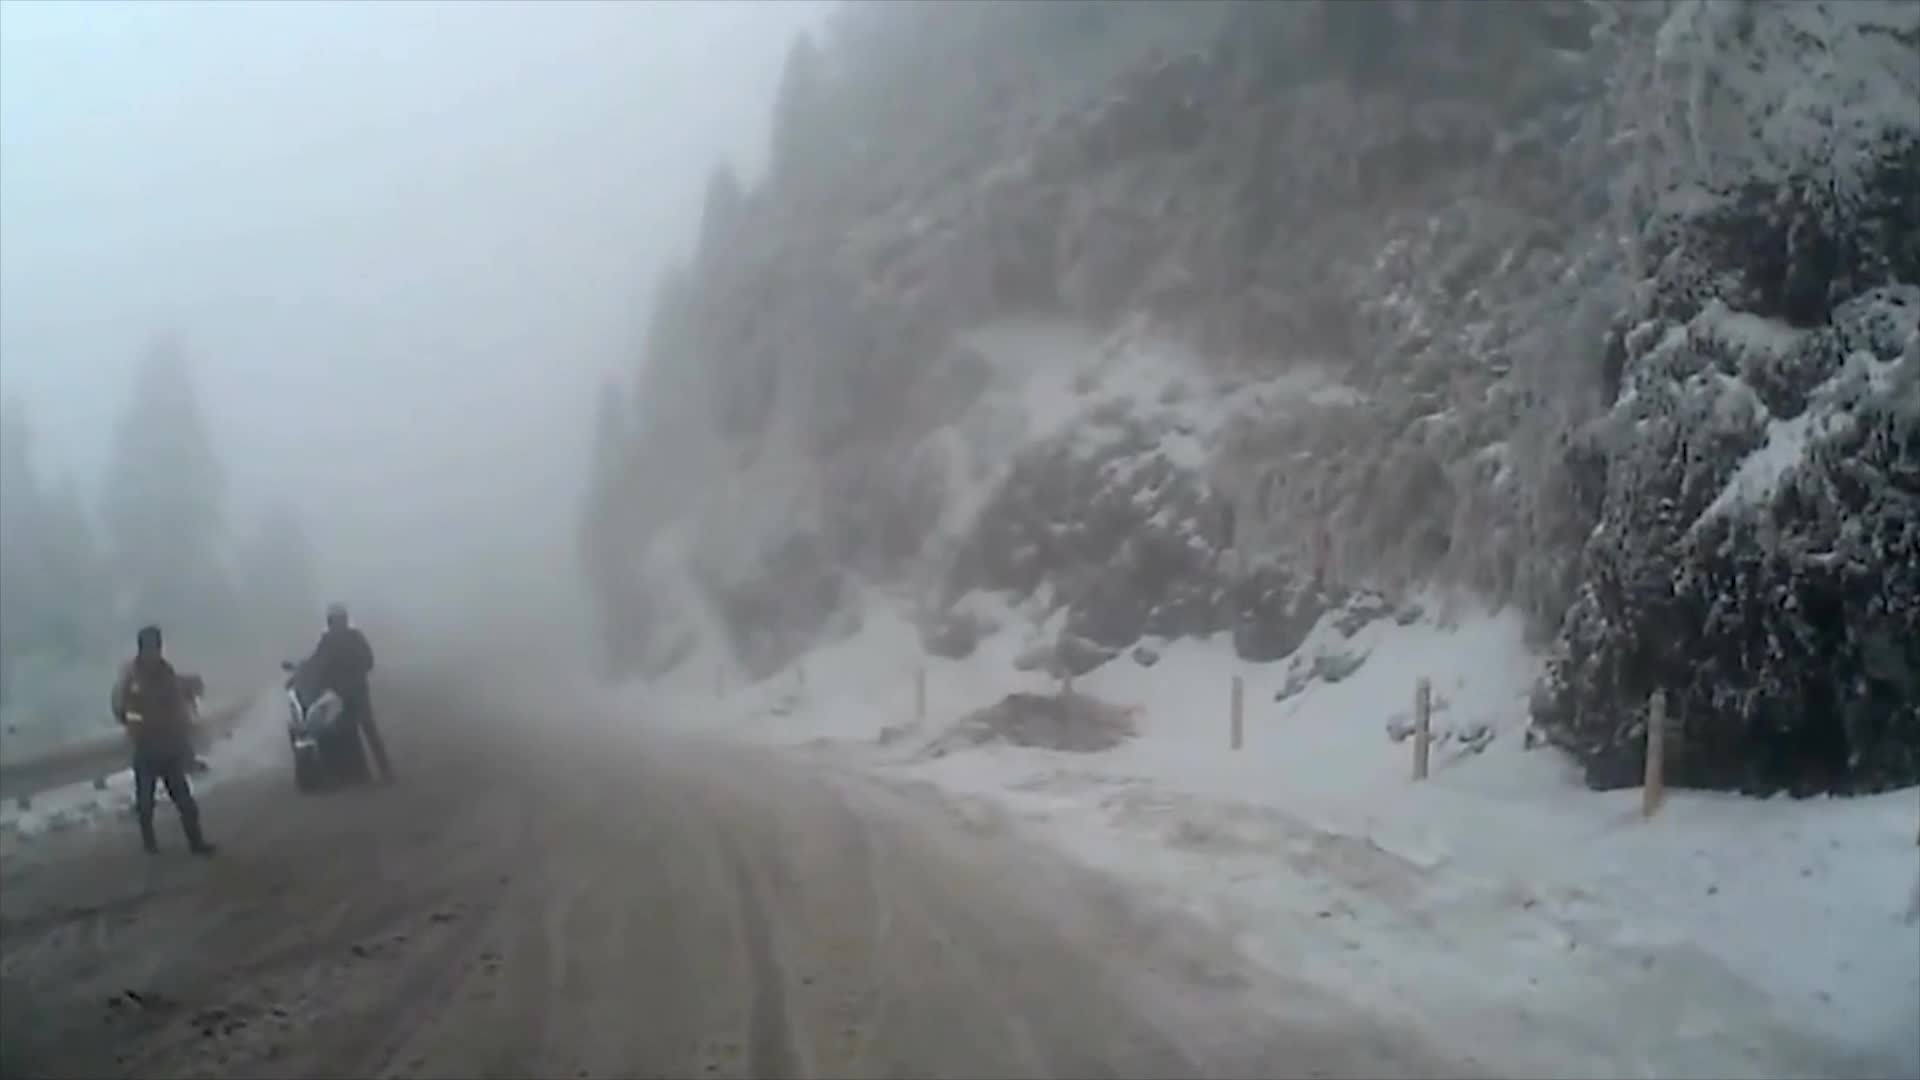pedestrian: (109, 627, 219, 856), (299, 598, 399, 794)
